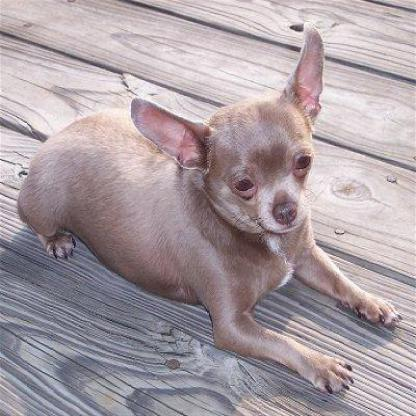dog: (9, 11, 408, 397)
